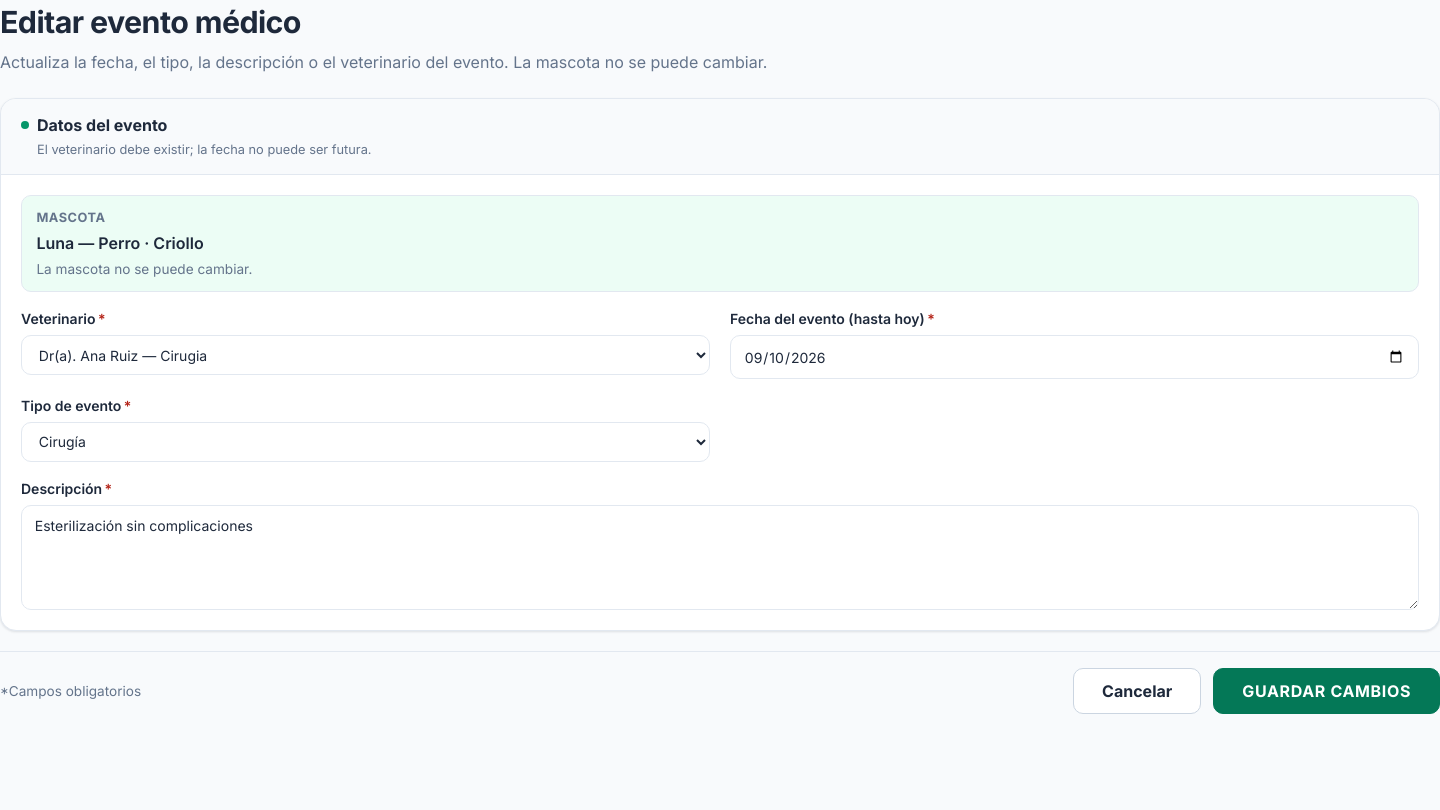
Test case: MedicalEventEditPage › shows backend field errors next to the field and in the dialog
Check: the date field showing "2026-09-10" is shown, box [730,335,1419,379]
What coordinates should you click on to do the following:
click the button "Guardar cambios"
I would click on:
 (1327, 691)
Its box is [1213,668,1439,714].
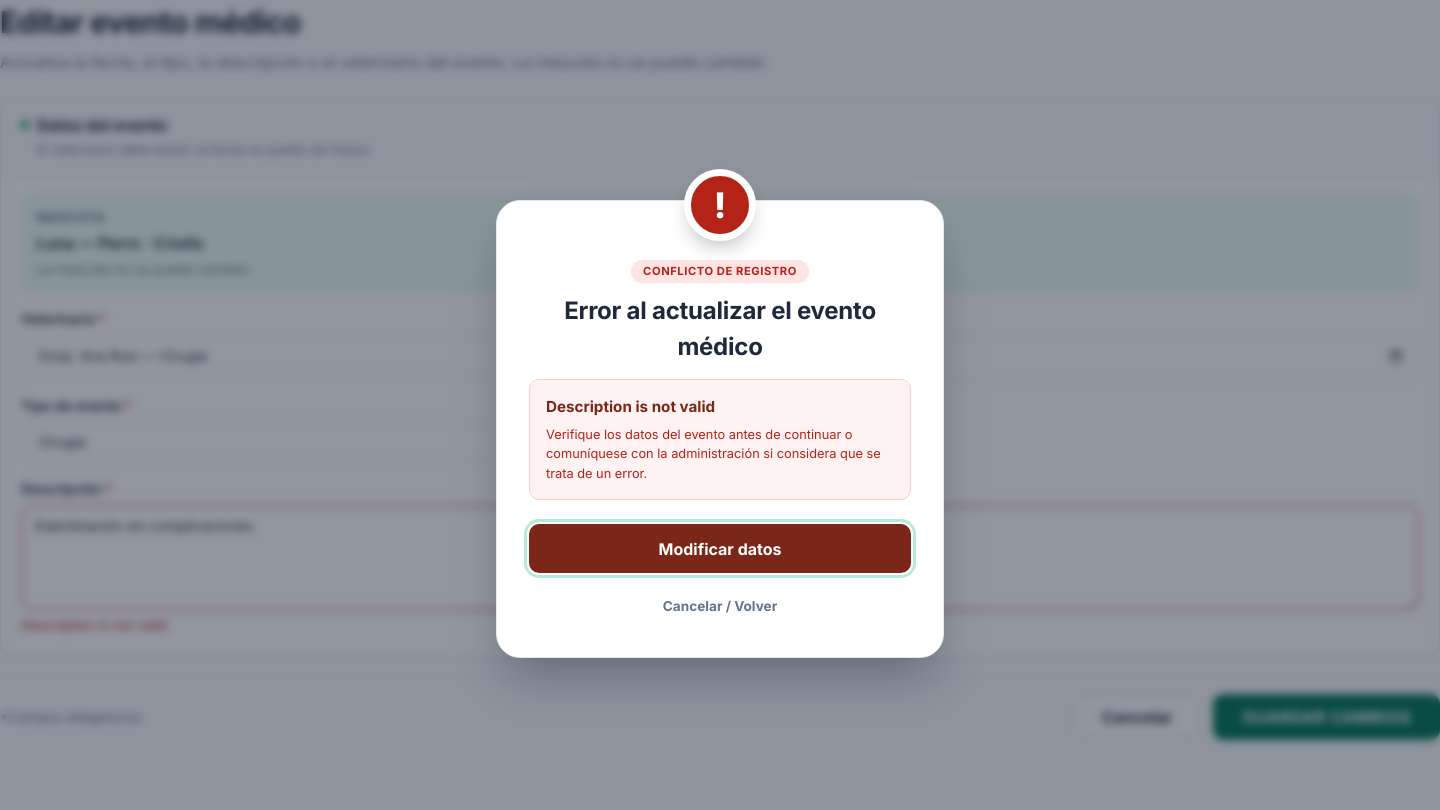
Check: the text "Description is not valid" is shown, box [546,397,715,416]
